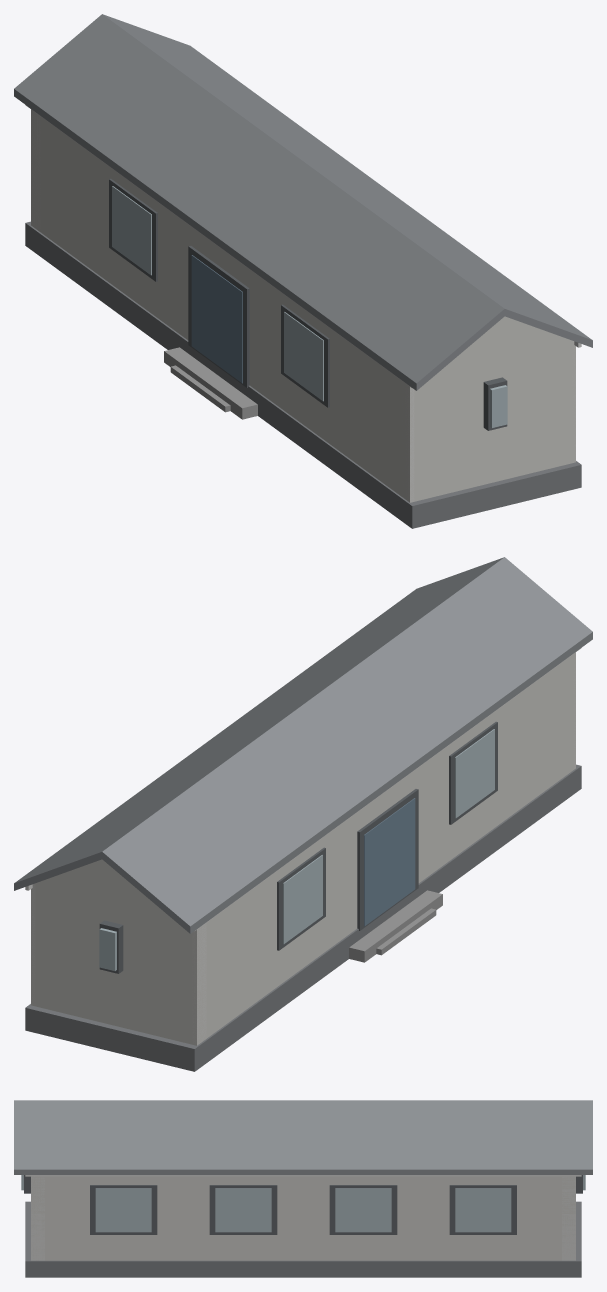
The model's file is bench-14x48.glb.
The picture shows the model from 3 angles, top to bottom: view 1: azimuth 30°, elevation 25°; view 2: azimuth 150°, elevation 25°; view 3: azimuth 270°, elevation 25°; orthographic projection. The views are drawn at different scales.
Visible parts, largest first — view 1: world; view 2: world; view 3: world.
Boxes of the visible parts, x1=… form: world: x1=14, y1=14, x2=592, y2=528; world: x1=14, y1=557, x2=592, y2=1071; world: x1=14, y1=1100, x2=592, y2=1277.
Size of the model in its own units: 4.06 by 4.11 by 14.63.
